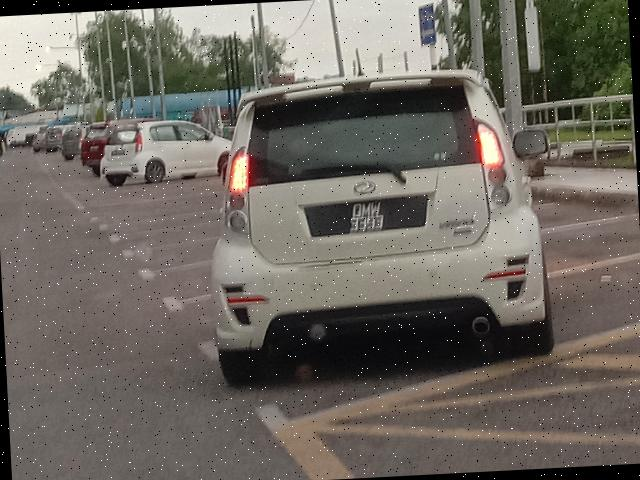License_Plate: (306, 196, 432, 237)
car: (213, 63, 560, 372)
